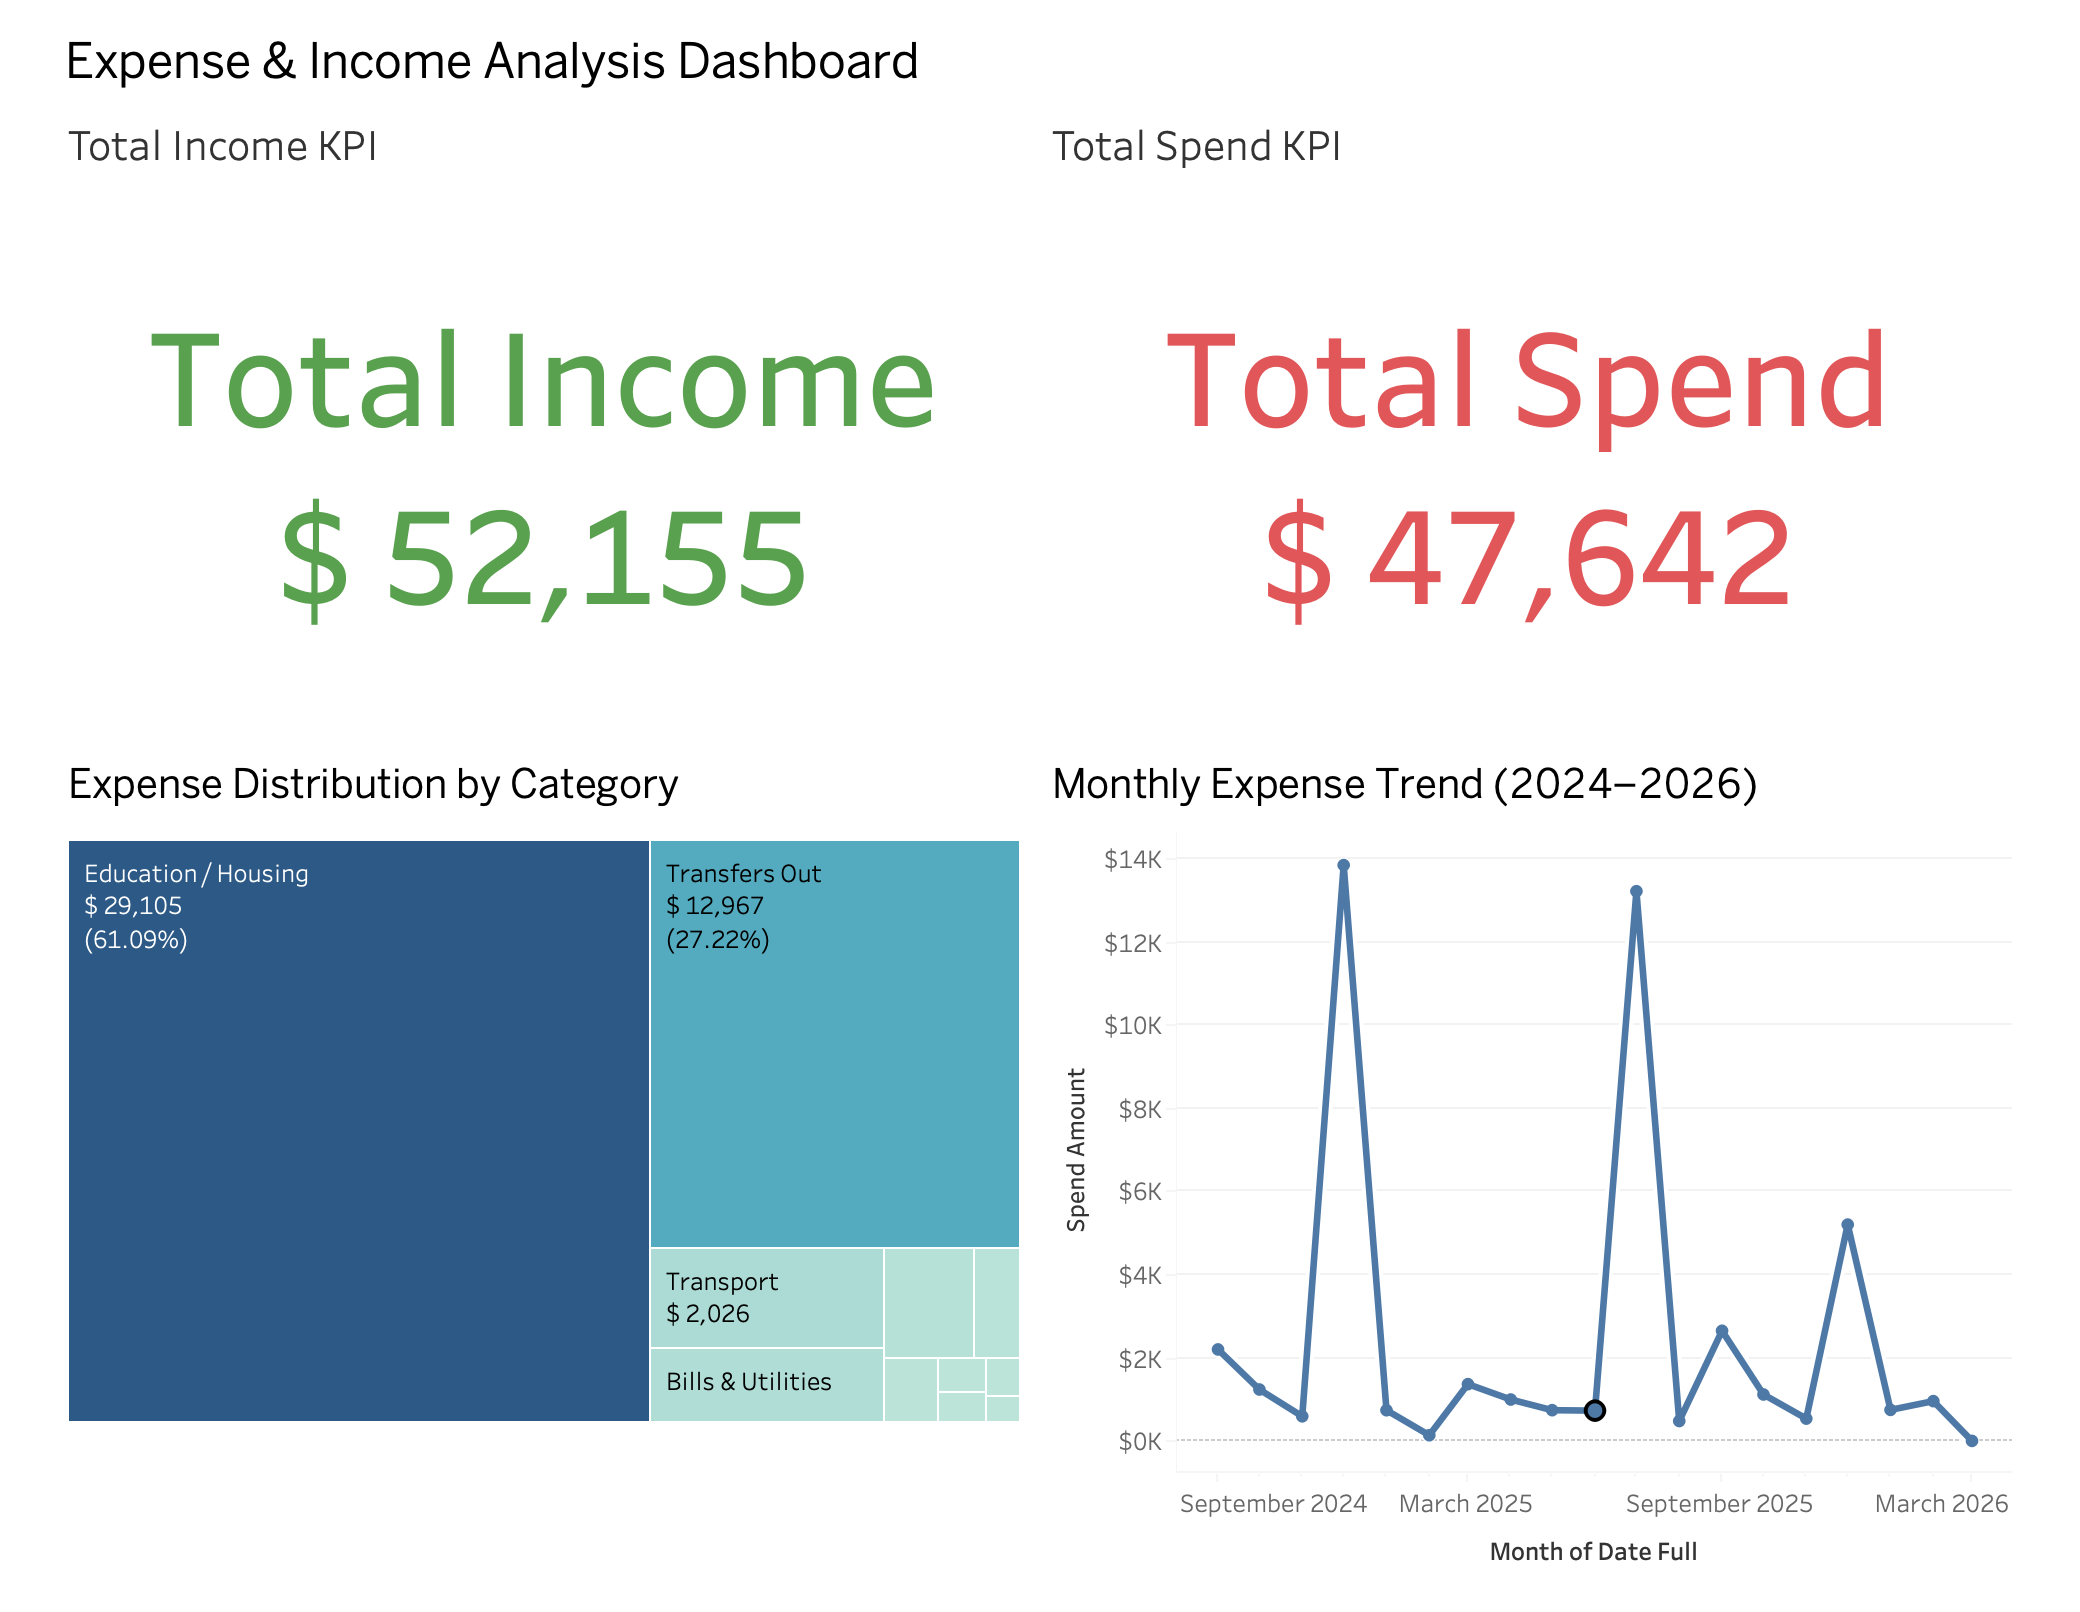

The dashboard page shown, as its layout file describes it:
{"tool":"tableau","page":{"name":"Dashboard 1","canvas":[1000,800],"ordinal":0},"visuals":[{"type":"title","box":[8,8,984,39]},{"type":"worksheet","title":"Income KPI","mark":"Automatic","box":[8,47,492,321.2]},{"type":"worksheet","title":"Spend KPI","mark":"Automatic","box":[500,47,492,321.2]},{"type":"worksheet","title":"Expense distribution","mark":"Automatic","box":[8,368.2,492,423.8]},{"type":"worksheet","title":"Monthly Spend ","mark":"Line","rows":["Calculation_0619835120381952"],"cols":["date_full"],"box":[500,368.2,492,423.8]}]}

Visuals, with their boxes on the page's 1000x800 design canvas (x1, y1, x2, y2). These are canvas units, not pixel positions in the 2080x1612 screenshot, which may show the page scaled, cropped or inside an application window:
title: 8:8:992:47
"Income KPI" worksheet: 8:47:500:368
"Spend KPI" worksheet: 500:47:992:368
"Expense distribution" worksheet: 8:368:500:792
"Monthly Spend " worksheet (Line marks): 500:368:992:792
